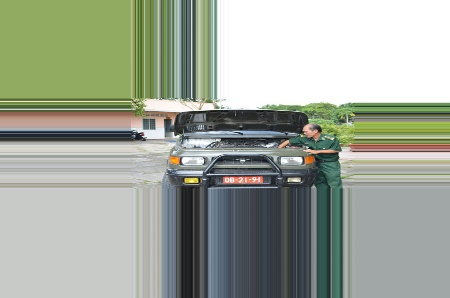plate: (221, 175, 263, 183)
